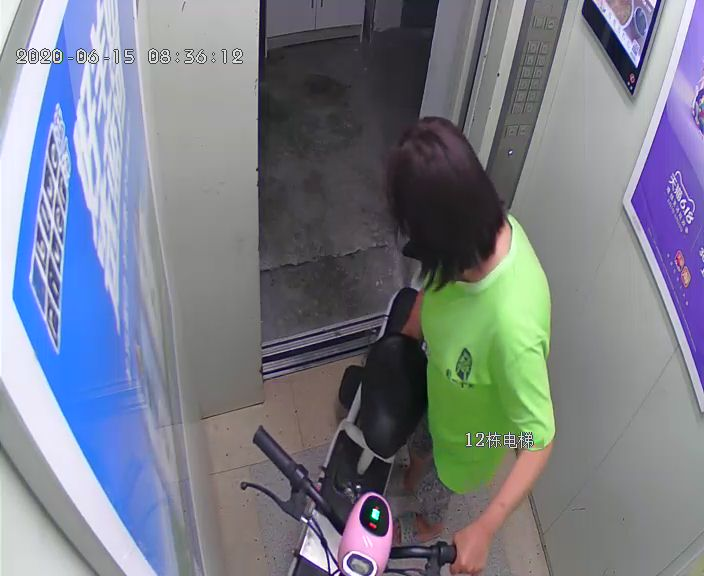Electric-bicycle: (239, 285, 460, 575)
